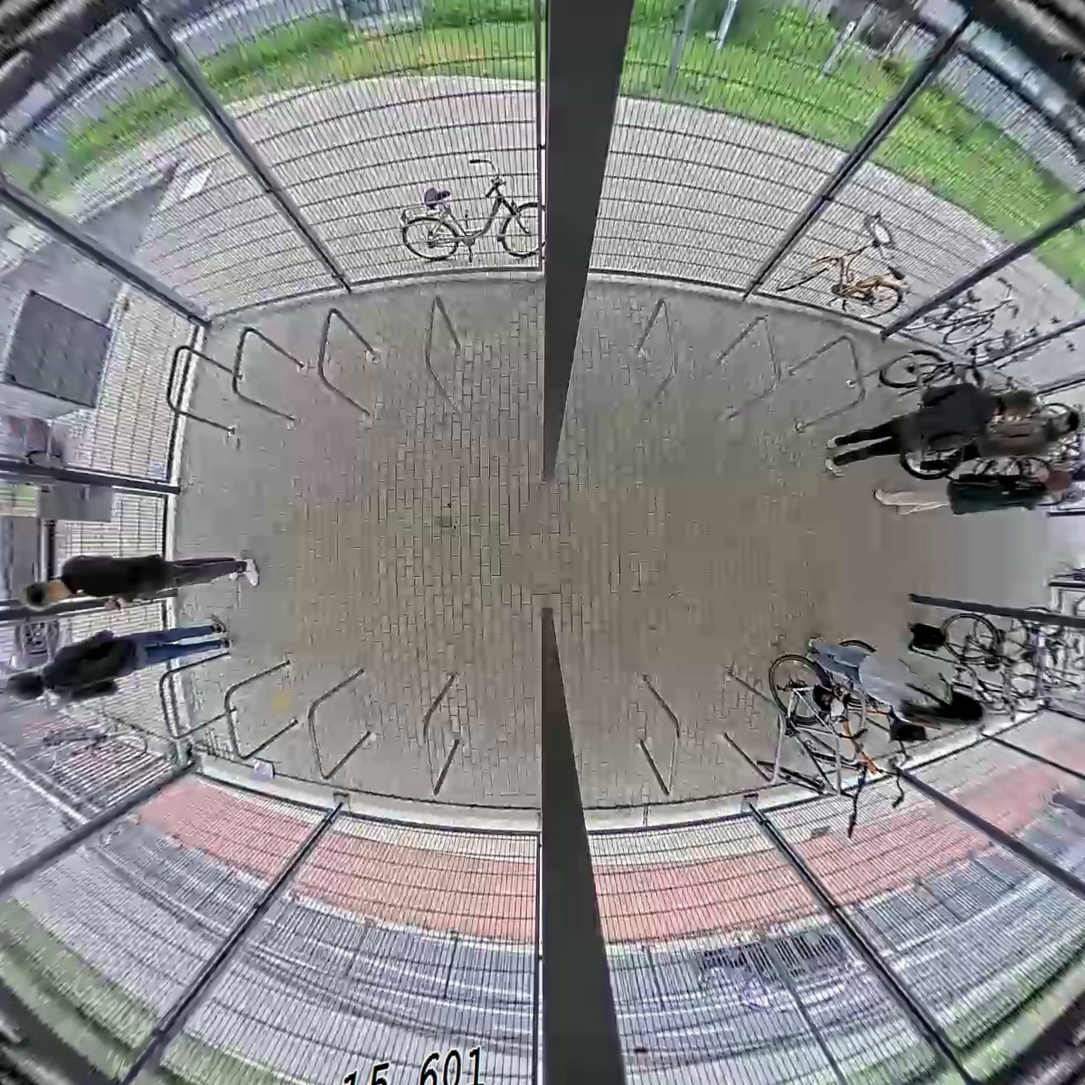bicylce: (753, 634, 862, 801), (932, 606, 1003, 746), (964, 609, 1038, 735)
saddle: (842, 725, 877, 754), (1020, 646, 1048, 675), (1041, 640, 1067, 666), (1068, 634, 1085, 658)
